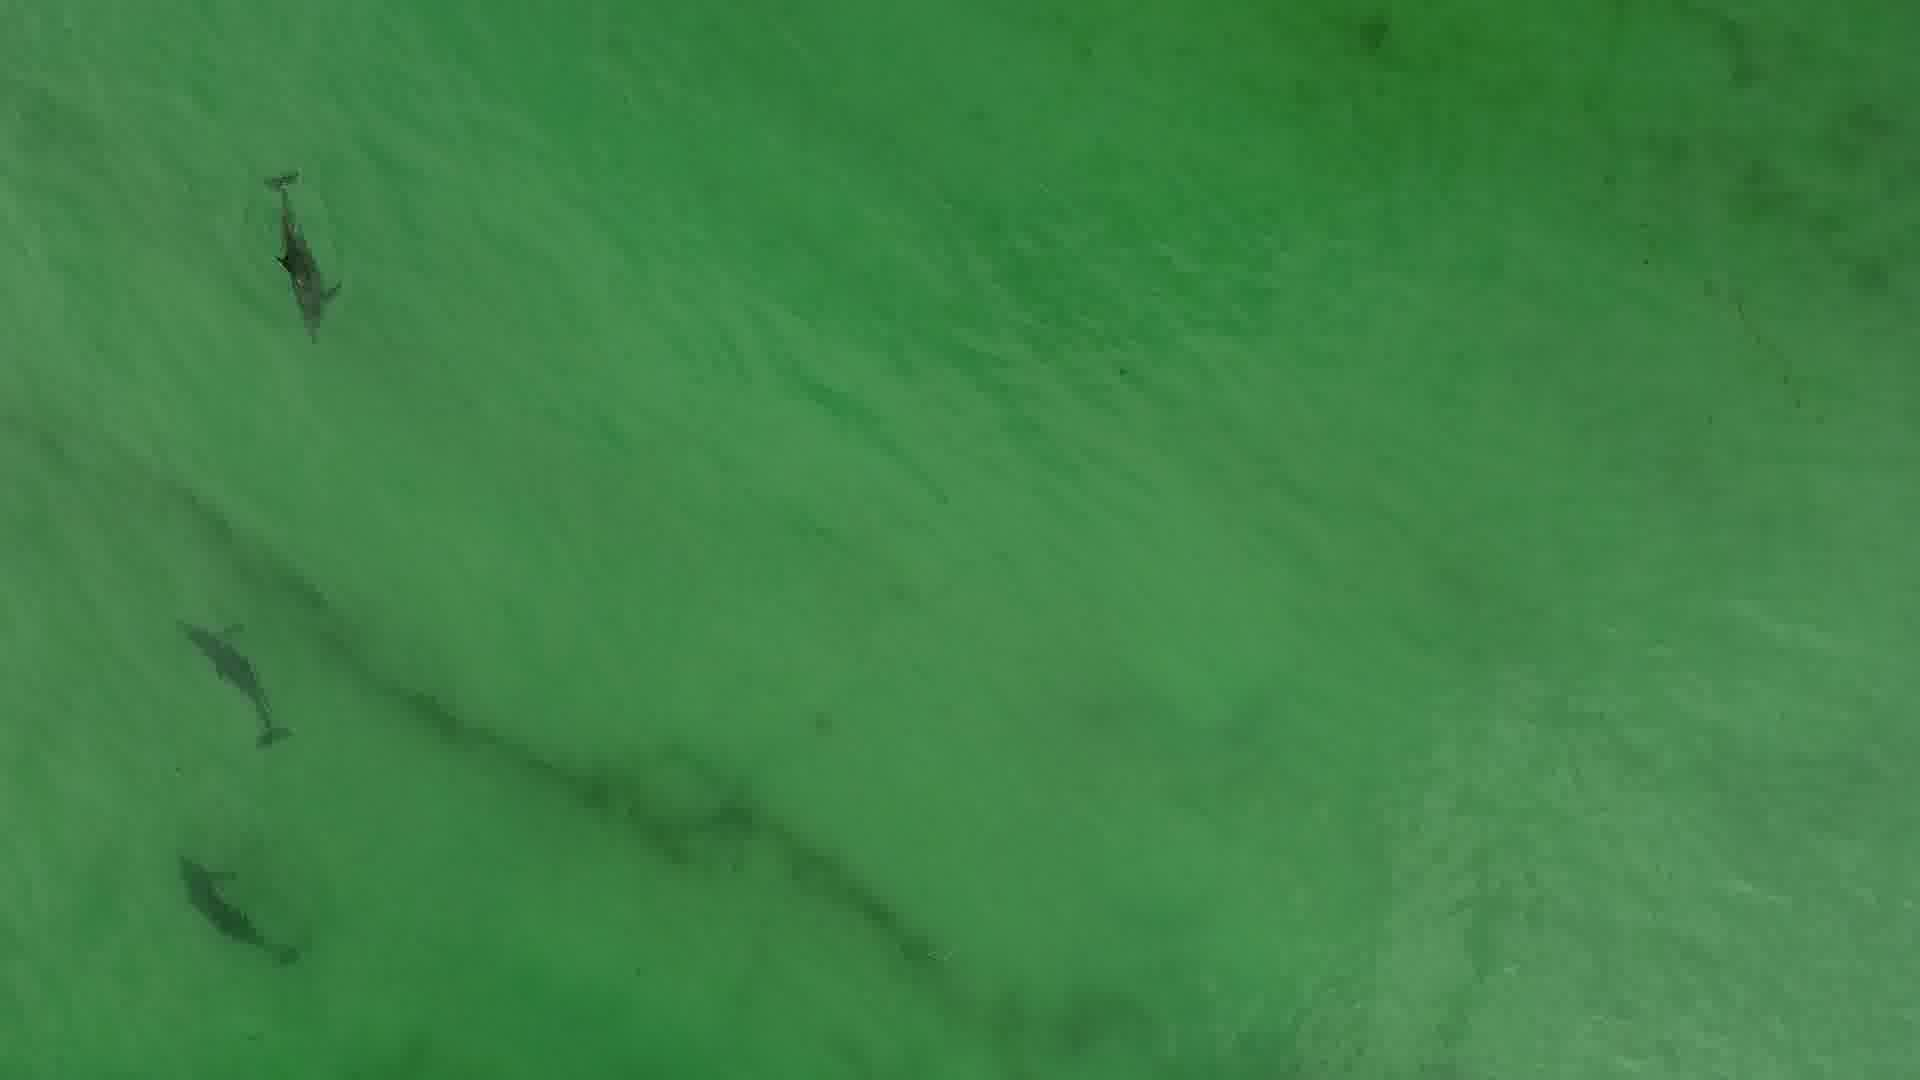dolphin: (146, 591, 303, 765), (237, 149, 351, 367), (146, 831, 305, 981)
